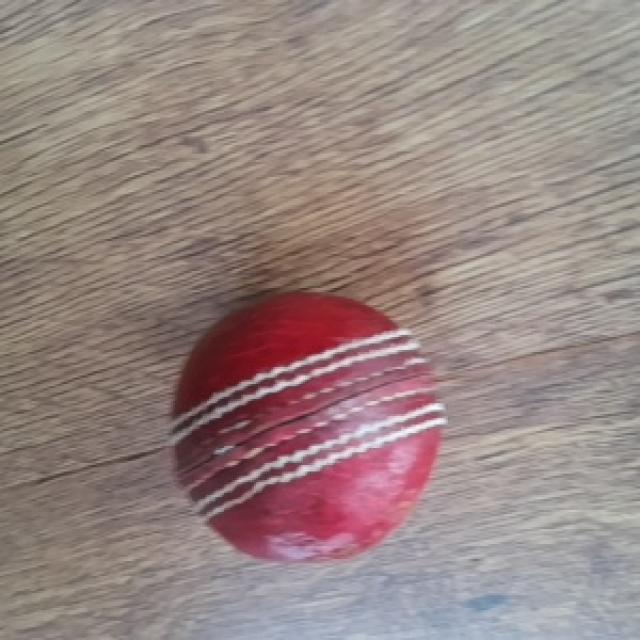ball: (165, 295, 454, 567)
